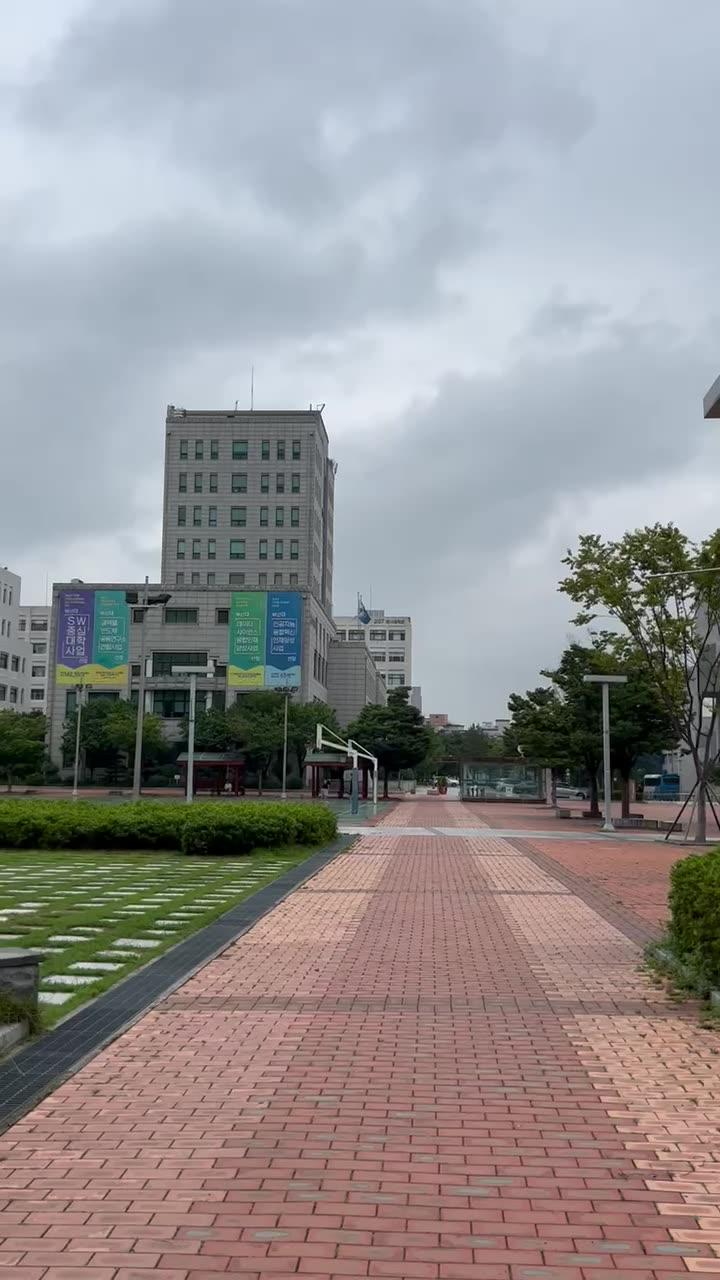building: (160, 400, 332, 600)
